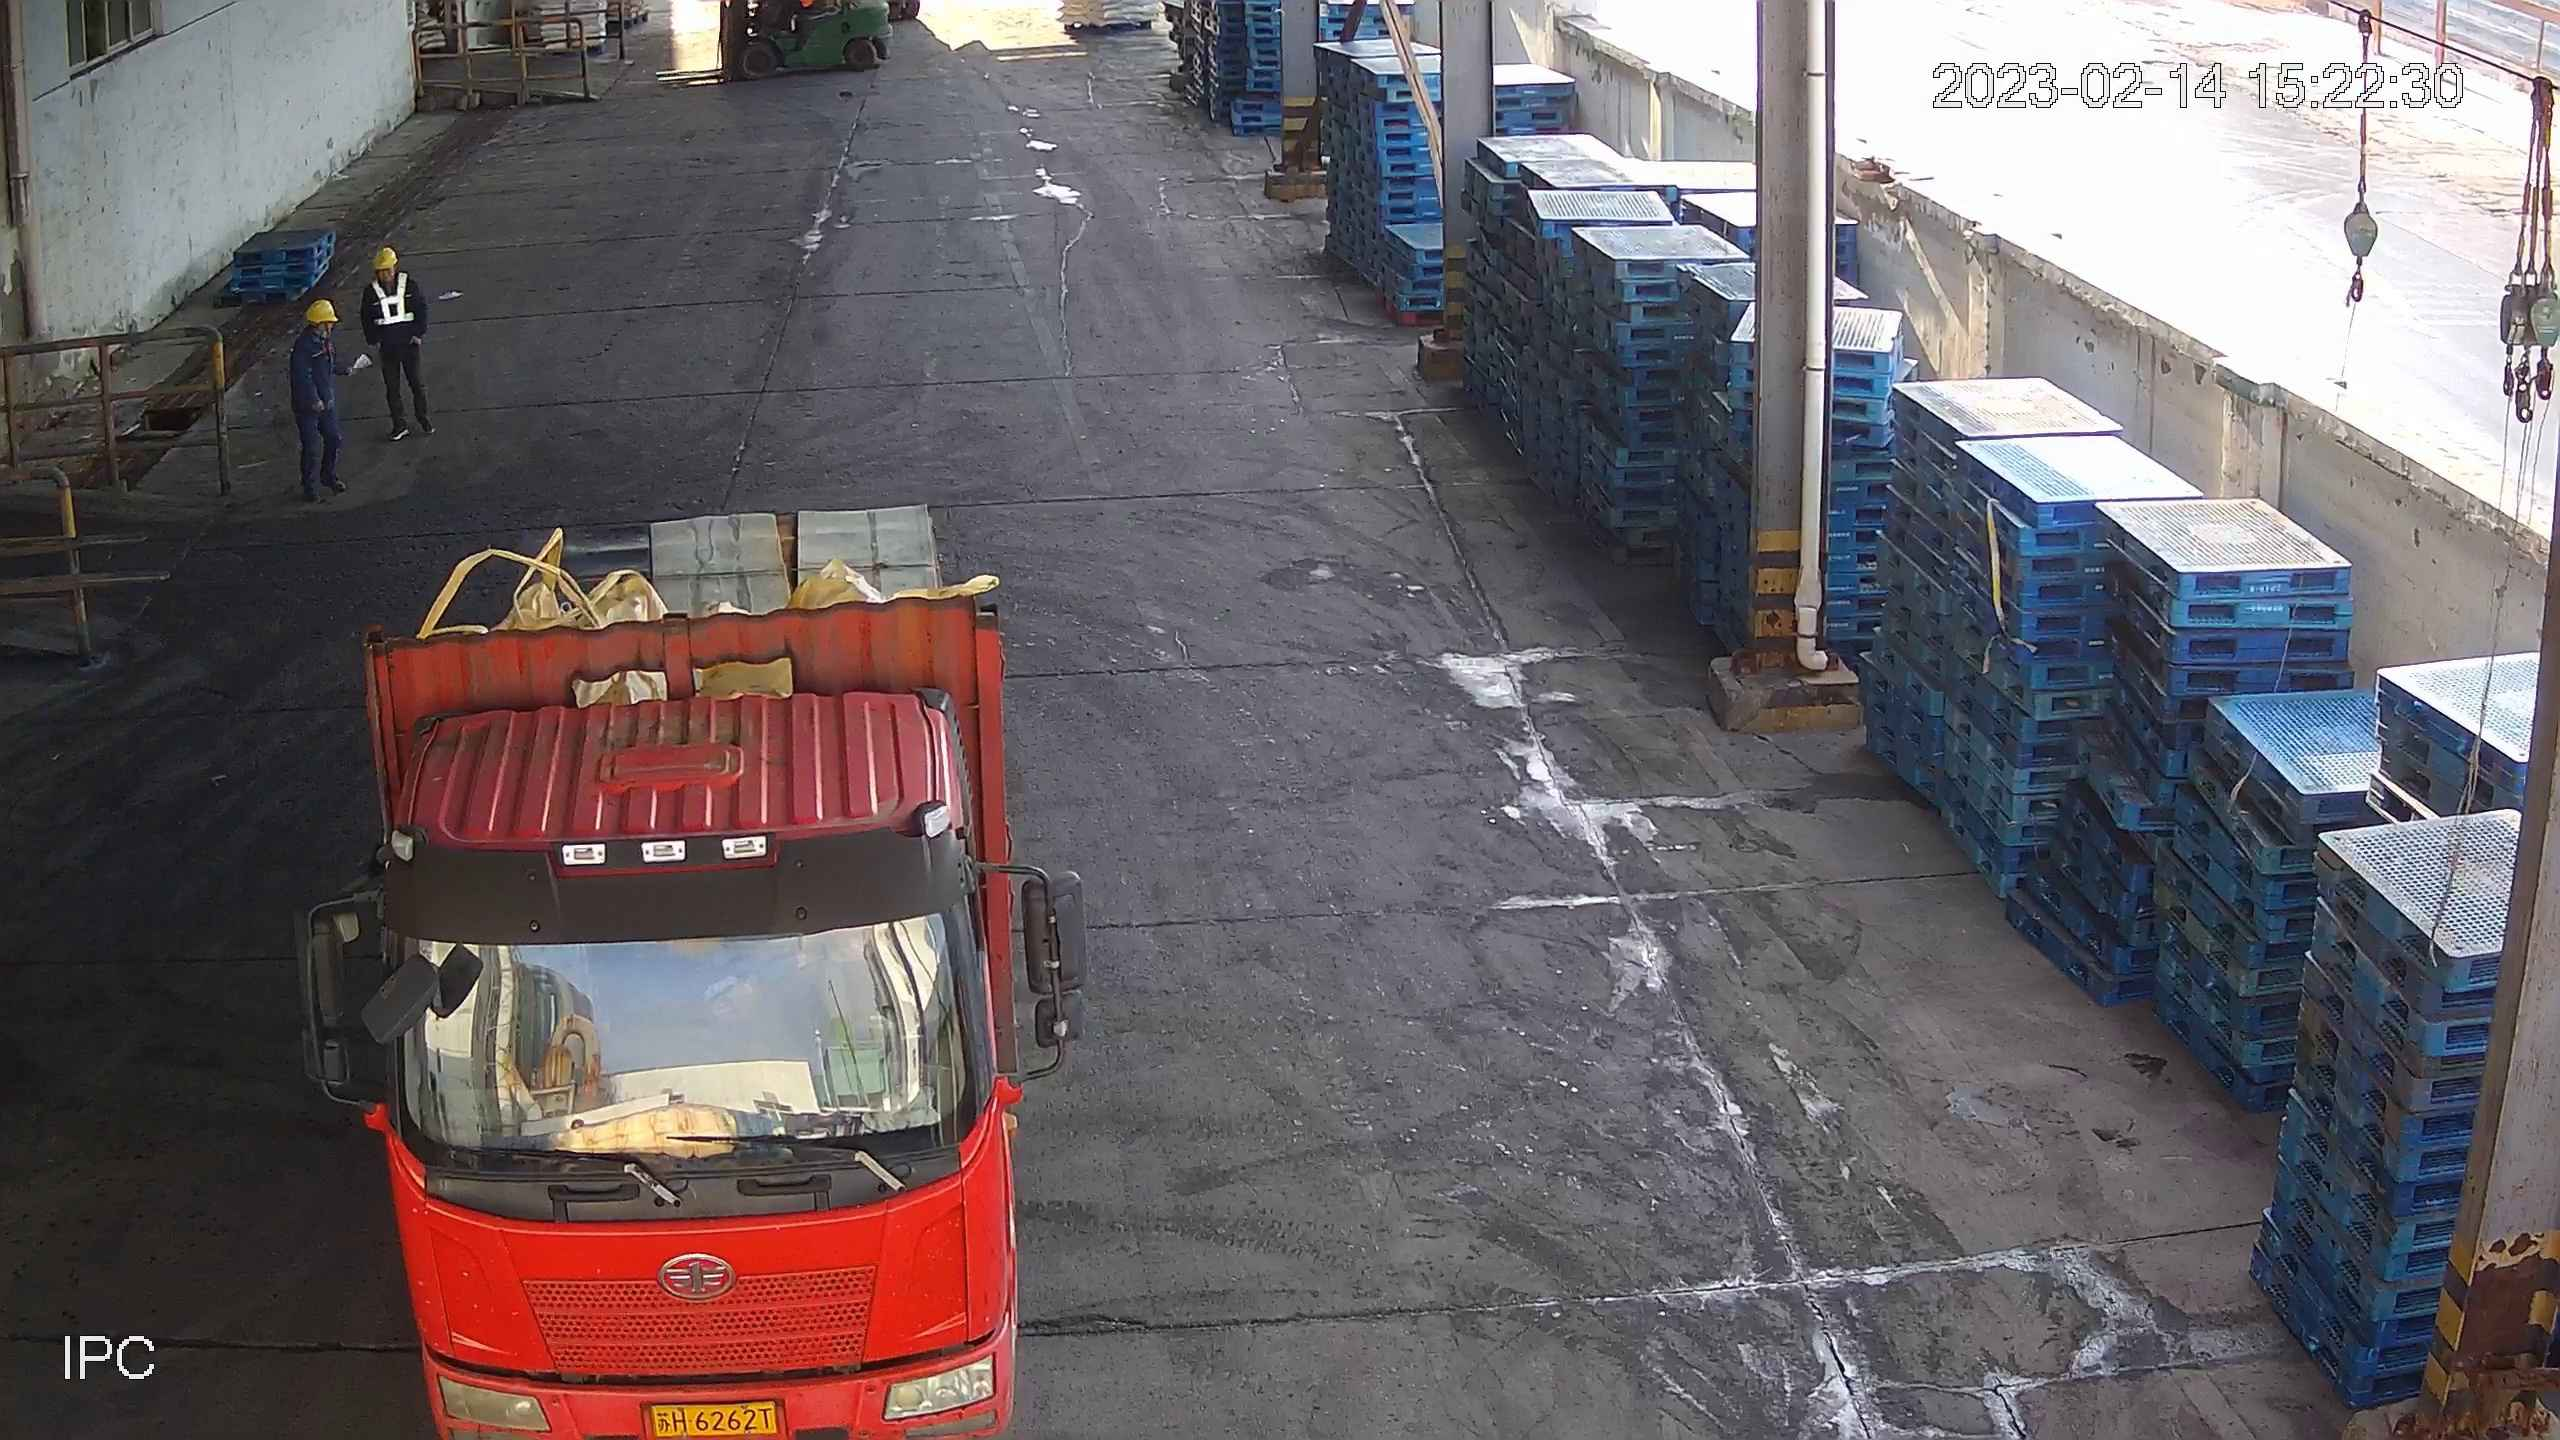head: (361, 245, 425, 316), (288, 298, 343, 371)
helmet: (305, 300, 339, 325), (371, 247, 397, 272)
people: (361, 246, 438, 443), (289, 298, 355, 503)
truck: (290, 503, 1096, 1440)
